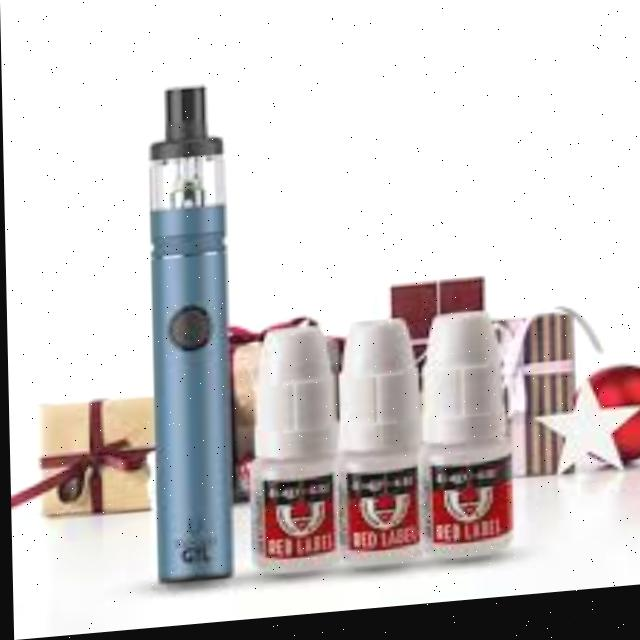vape: (144, 87, 234, 590)
